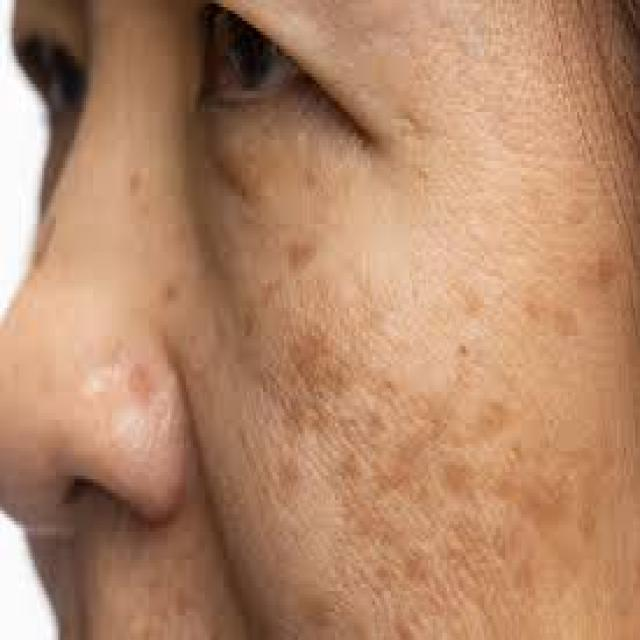pigmentation: (258, 284, 532, 604)
